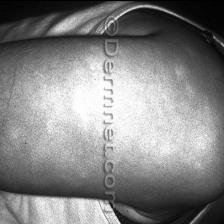Non-Cancerous Skin Condition: (140, 52, 220, 190), (44, 59, 92, 194)
